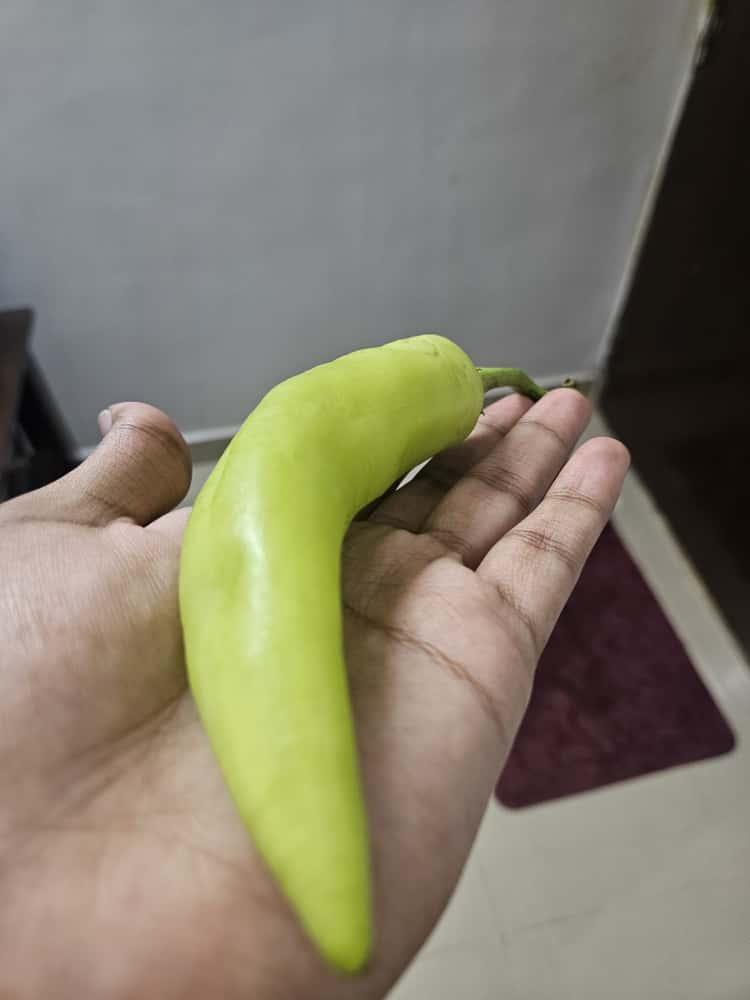wet: (106, 345, 632, 969)
